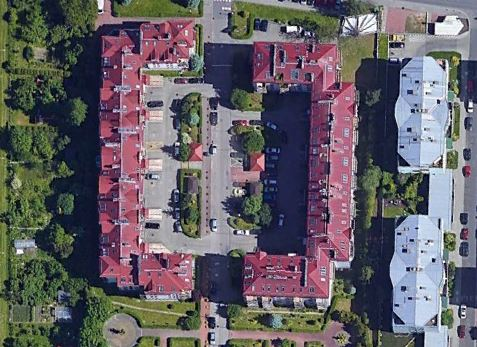block of flats: (238, 38, 360, 313), (95, 12, 203, 306), (387, 55, 458, 335)
